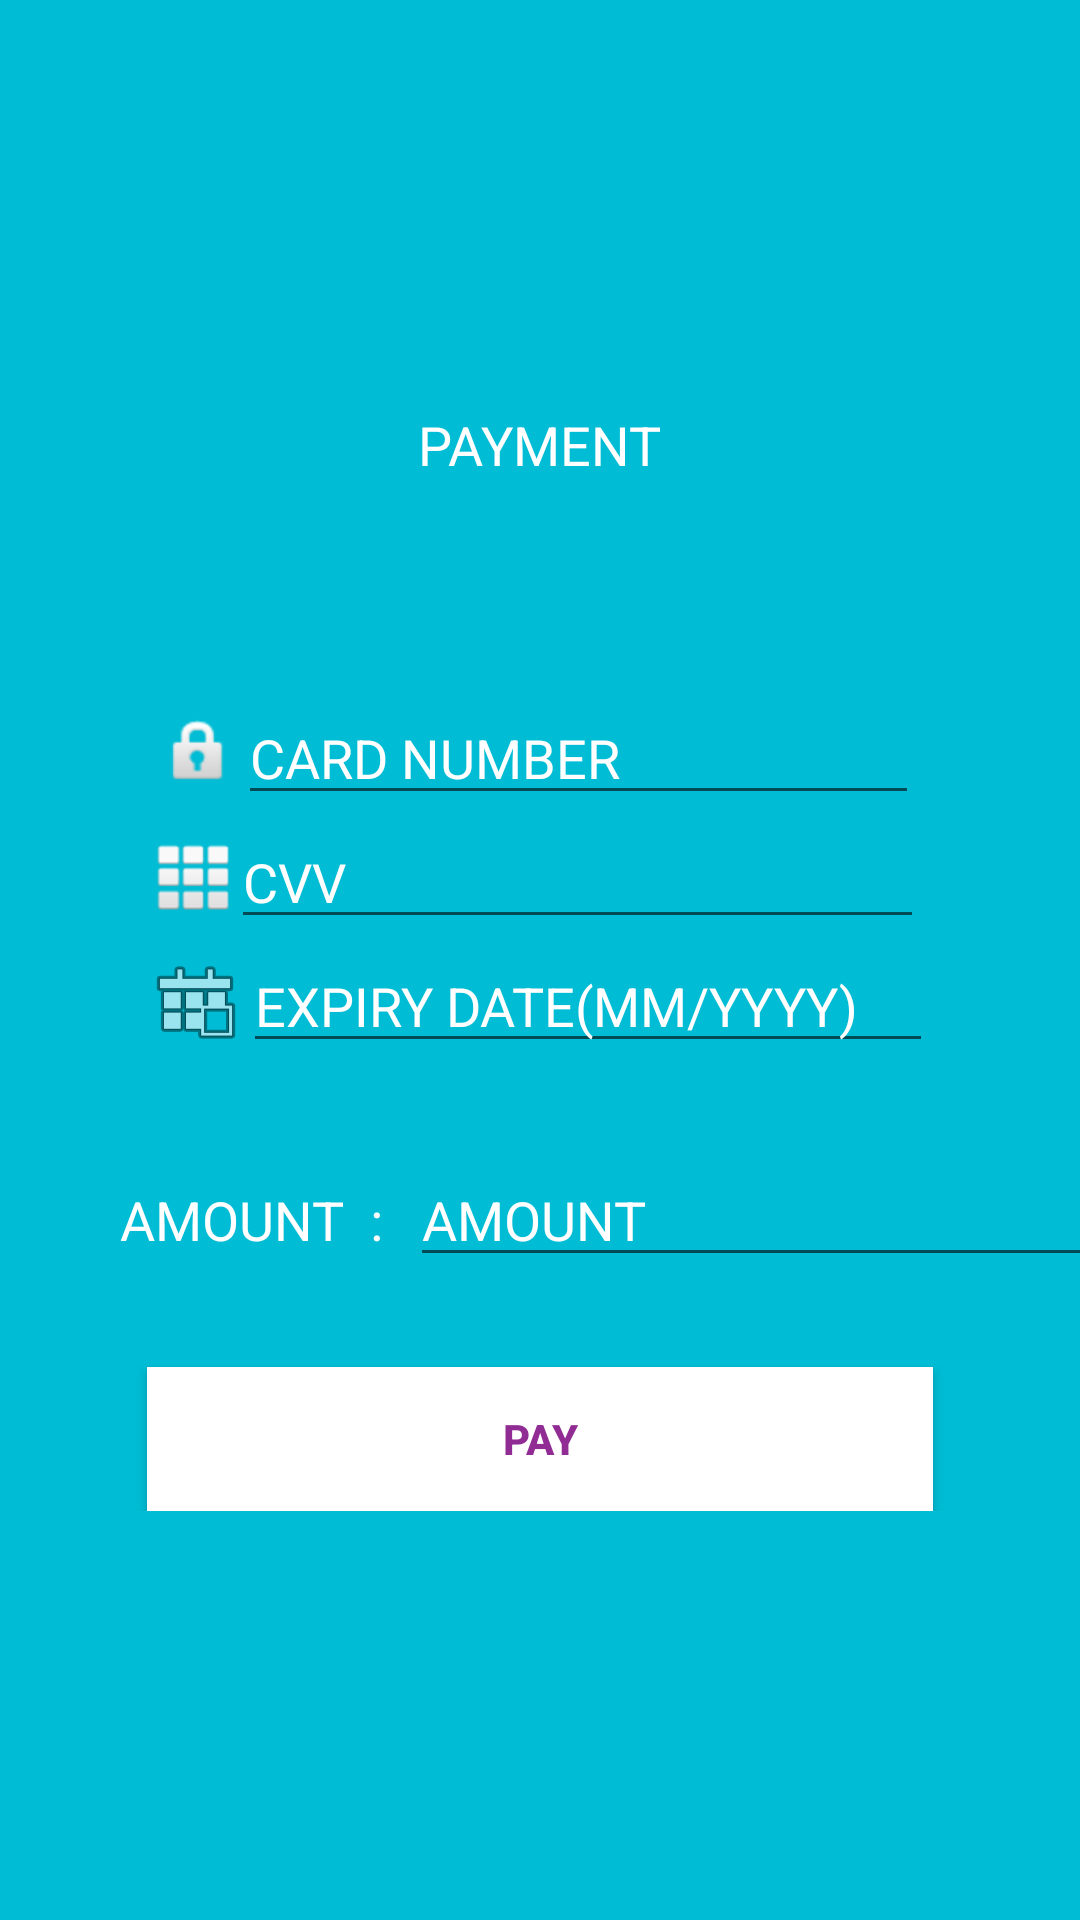

Icon bounding boxes for this 1080 x 1920 phone screenshot, format box(x1, y1, x2, y2):
dialer: box(157, 845, 229, 910)
lock idle: box(172, 720, 223, 780)
today: box(157, 966, 235, 1039)
